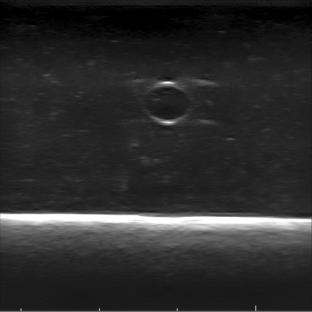vessel: (142, 79, 193, 125)
